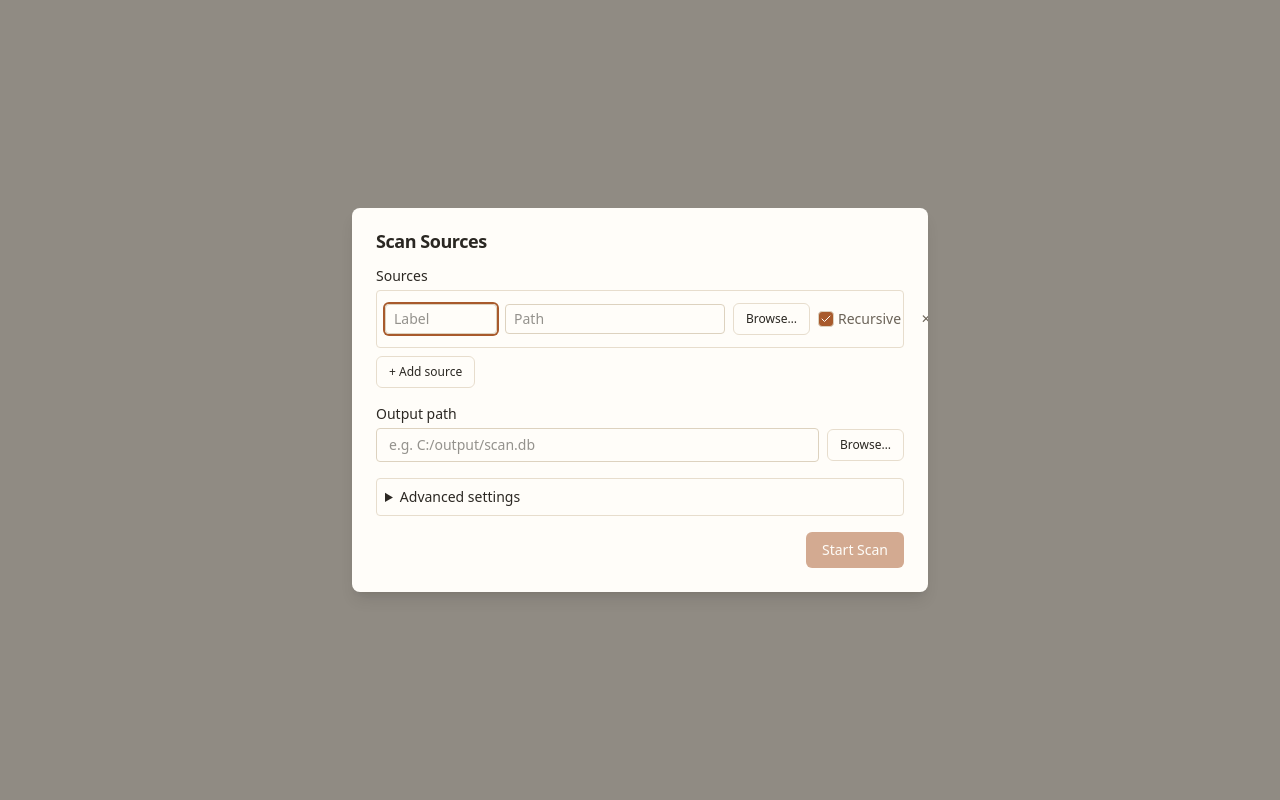
Test: ScanDialog › does not scan and keeps the dialog open when the gate is cancelled
The width and height of the screenshot is (1280, 800).
Type "Pics" into the field named "source label" at (441, 319), box top-left (385, 304), bottom-right (497, 334)
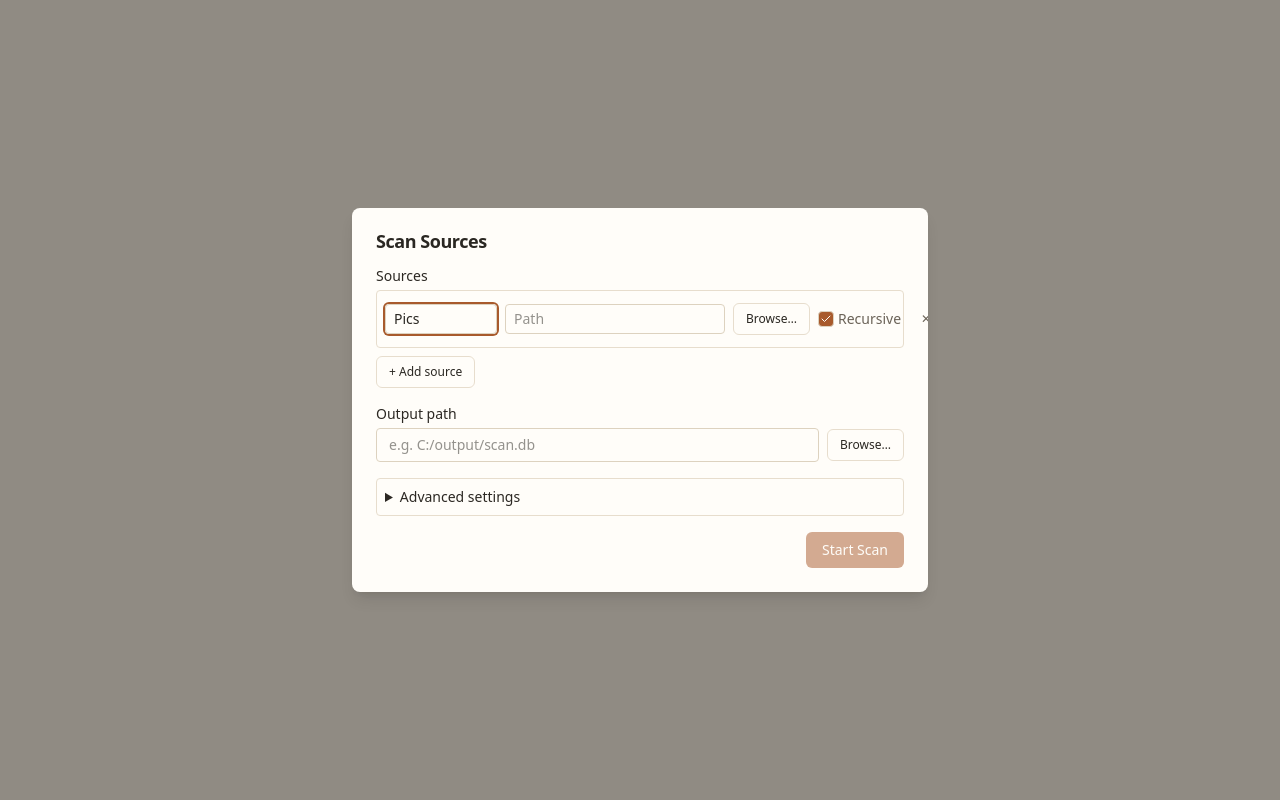
Type "D:/pics" into the field named "source path" at (615, 319), box top-left (505, 304), bottom-right (725, 334)
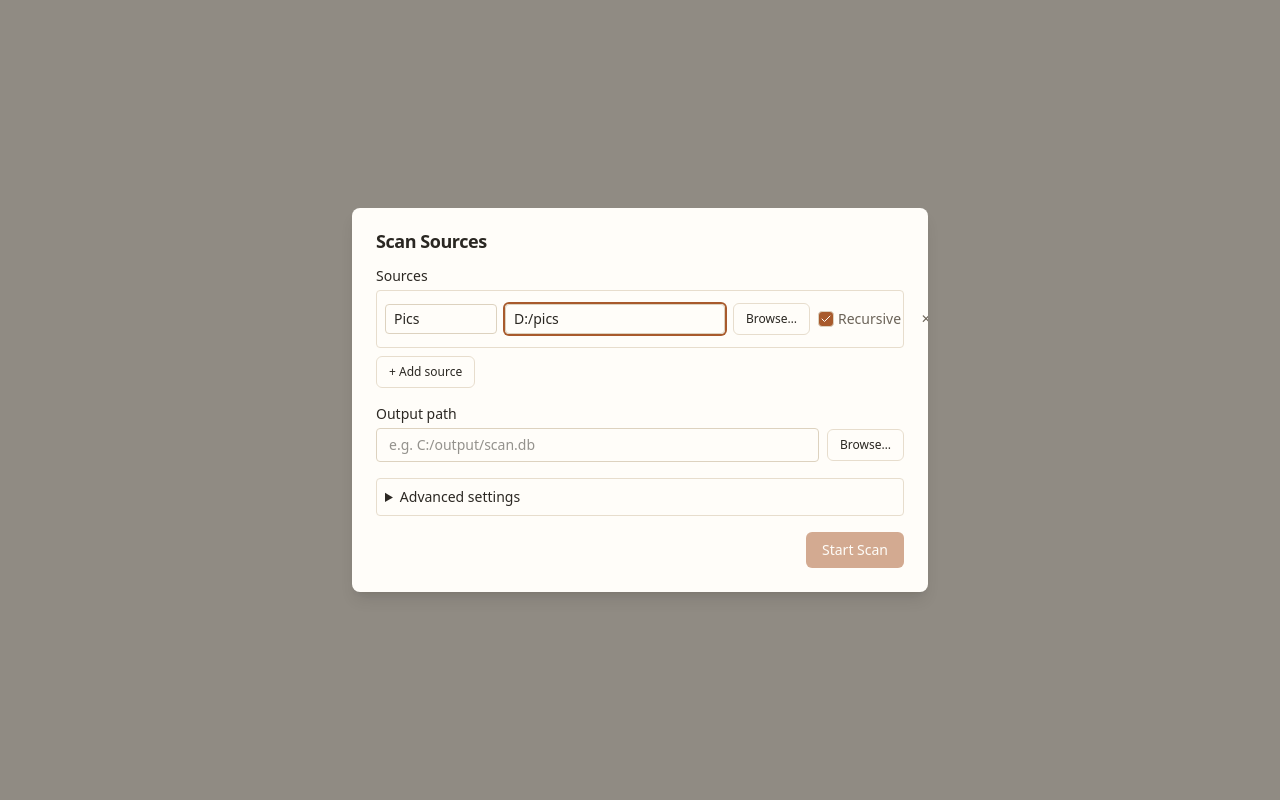
Type "D:/out.db" into the field with test id "scan-output-path" at (598, 445), box top-left (376, 428), bottom-right (819, 462)
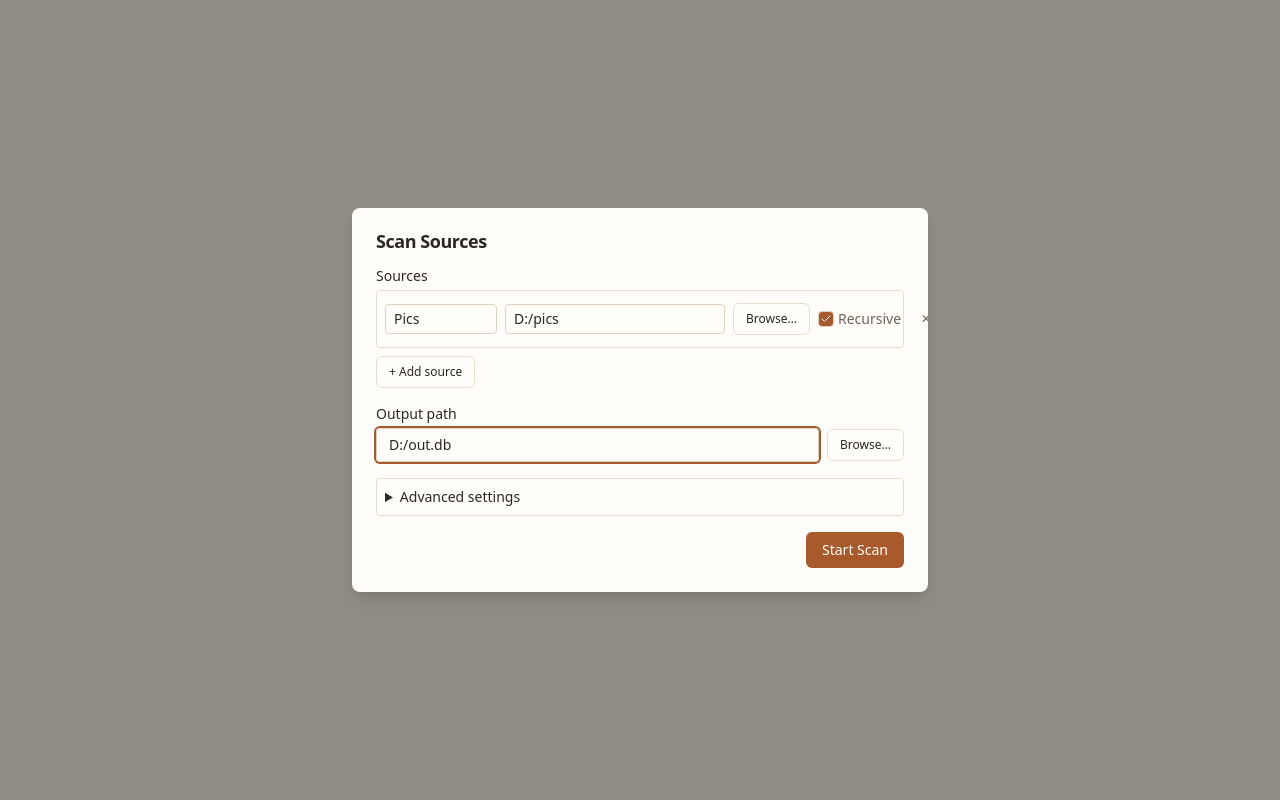
Click the button with test id "scan-start-button" at (855, 550), box top-left (806, 532), bottom-right (904, 568)
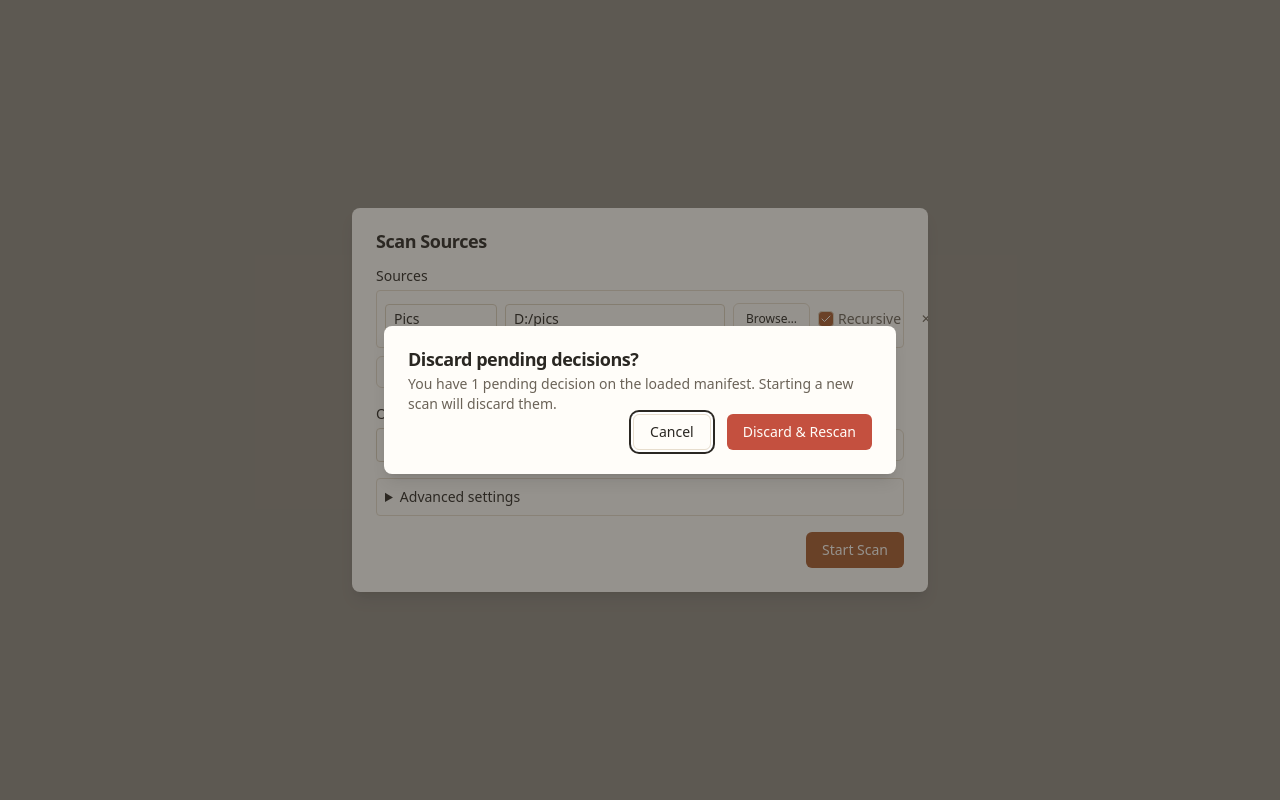
Click the button with test id "scan-rescan-confirm-cancel" at (672, 432), box top-left (633, 414), bottom-right (711, 450)
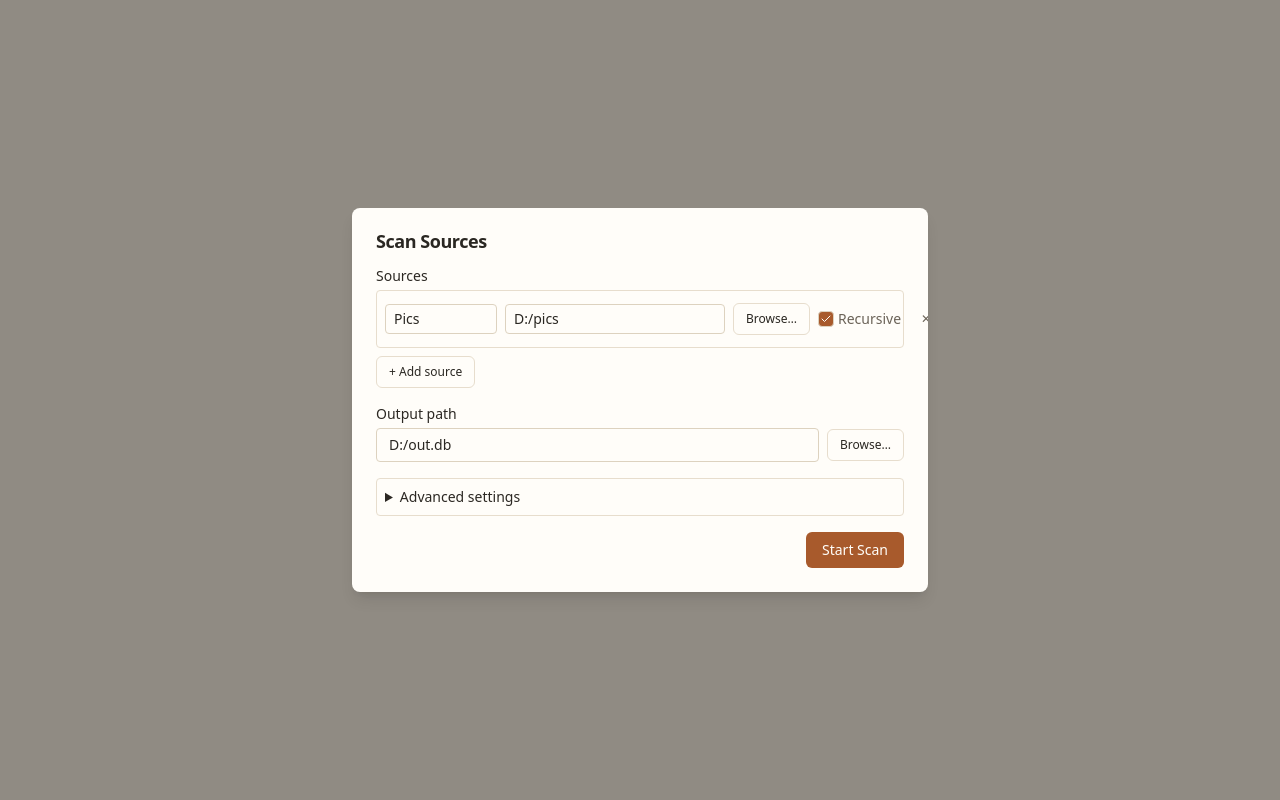
expect the dialog with test id "scan-dialog" is shown: met, box top-left (352, 208), bottom-right (928, 592)
expect the dialog with test id "scan-rescan-confirm-dialog" is gone: met
